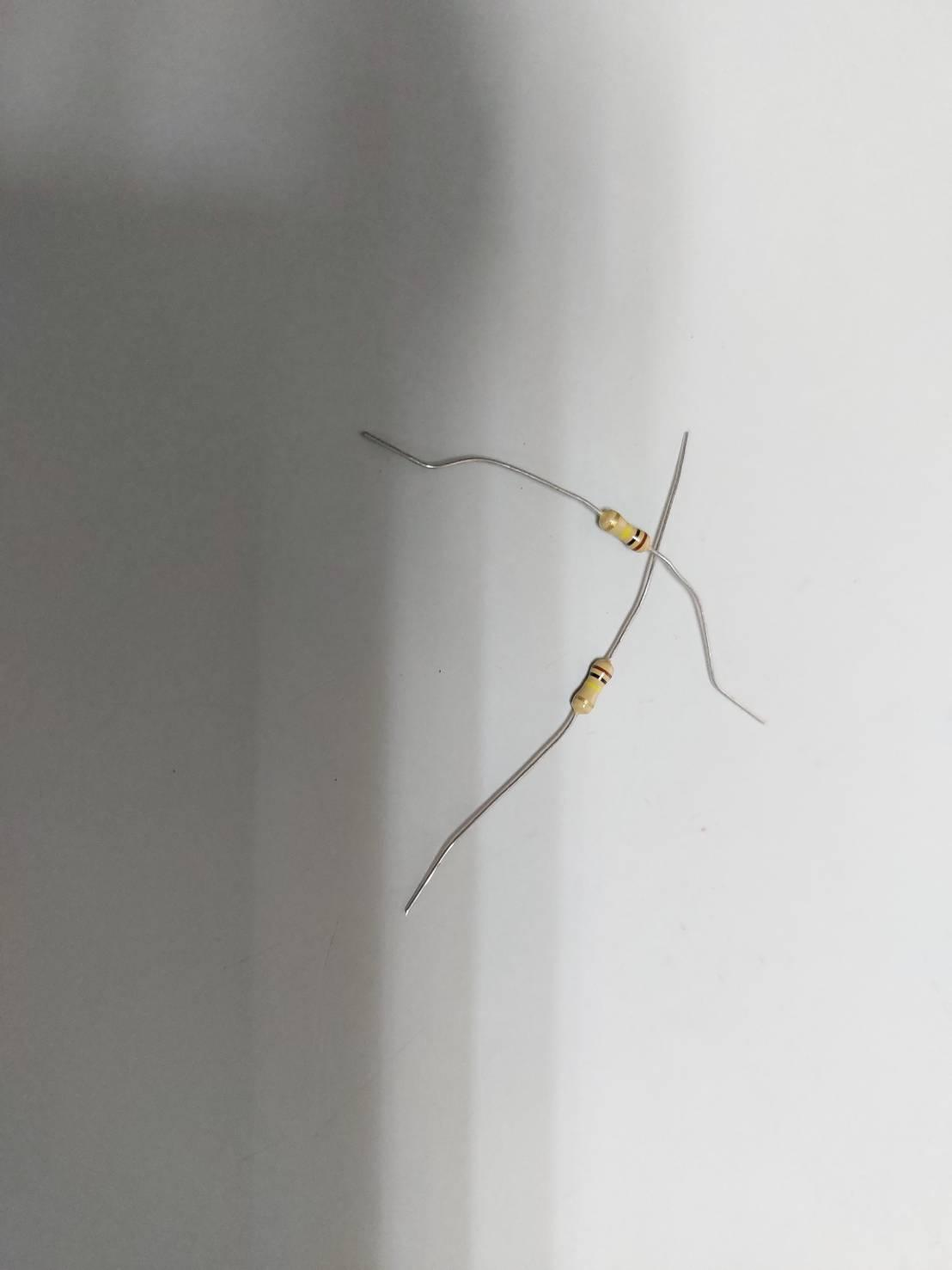resistor: (596, 505, 651, 552), (570, 655, 612, 714)
